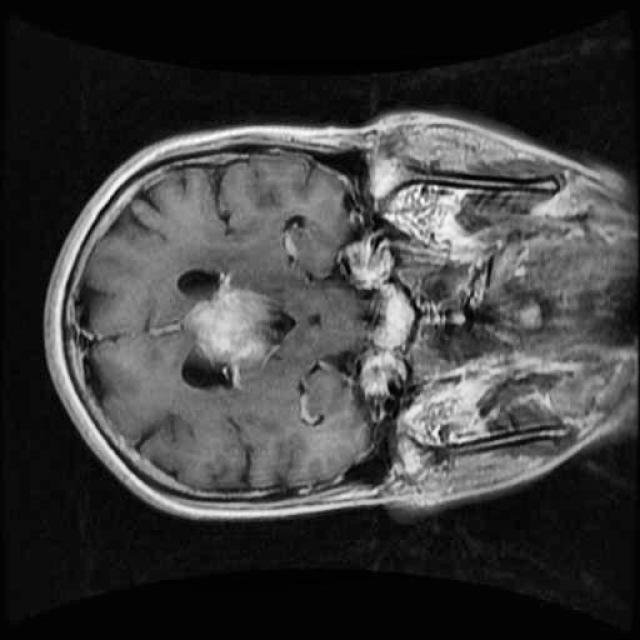Tumor: (176, 273, 286, 376)
